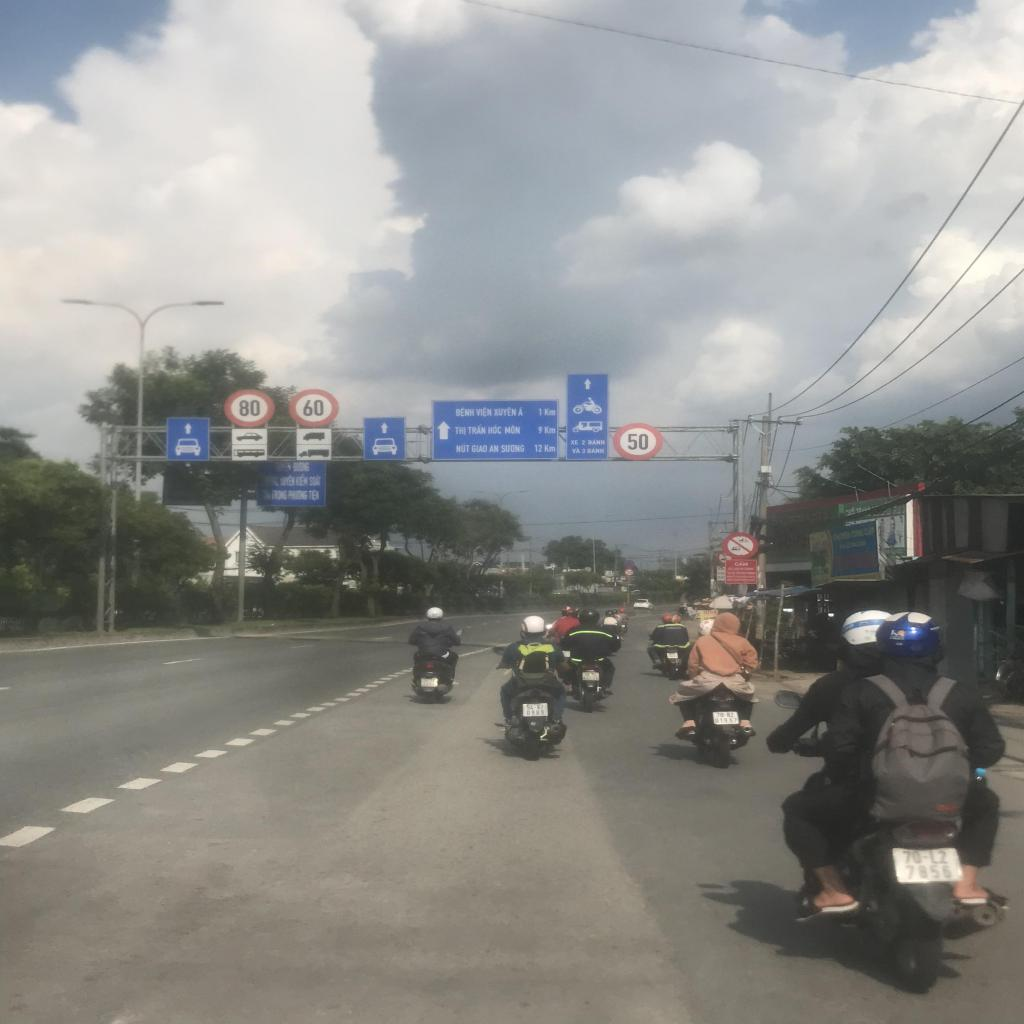cam_cac_loai_xe_3_banh: (721, 531, 757, 558)
cam_dung_xe_va_do_xe: (624, 560, 634, 567)
cam_xe_2_banh_va_xe_3_banh_co_dong_co: (624, 568, 634, 576)
duong_cho_xe_o_to: (362, 417, 406, 462), (166, 418, 211, 460)
khac: (432, 400, 559, 460), (567, 375, 608, 459), (296, 444, 332, 462), (232, 428, 268, 446), (231, 444, 267, 461), (296, 430, 332, 445)
toc_do_toi_da_50: (613, 423, 664, 461)
toc_do_toi_da_60: (287, 388, 340, 426)
toc_do_toi_da_80: (224, 390, 276, 426)
